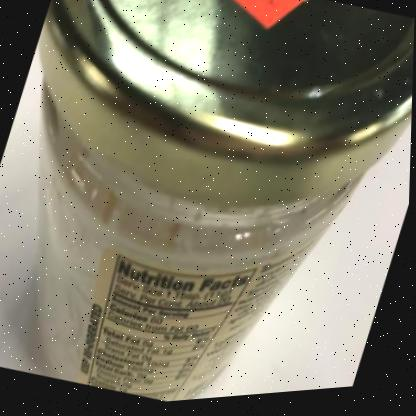Glass: (39, 0, 415, 405)
